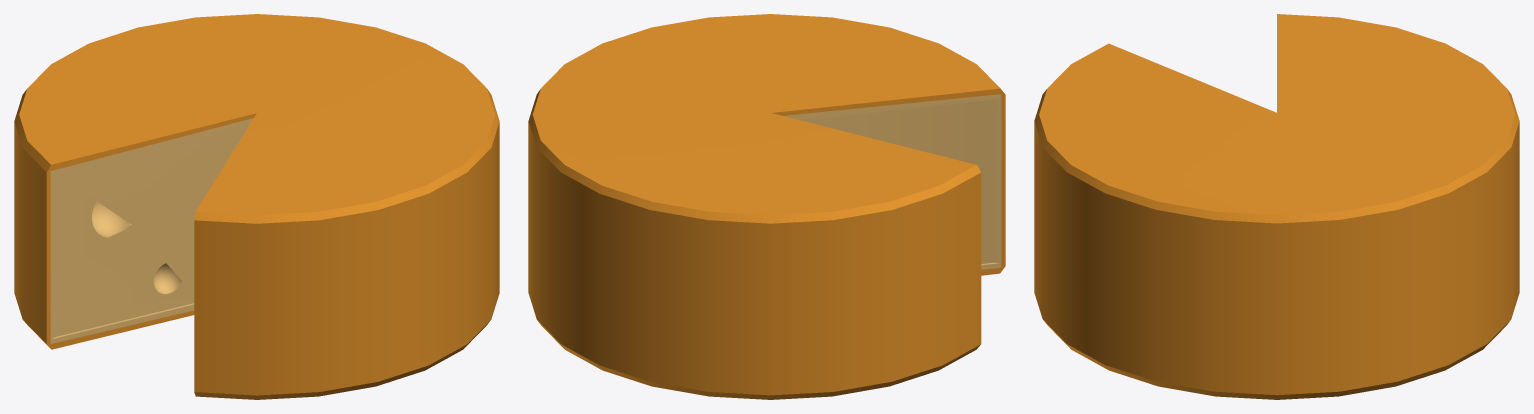
Rendered from QUEIJO.fbx.
The picture shows the model from 3 angles, left to right: view 1: azimuth 30°, elevation 25°; view 2: azimuth 150°, elevation 25°; view 3: azimuth 270°, elevation 25°; orthographic projection.
Visible parts, largest first — view 1: Cylinder; view 2: Cylinder; view 3: Cylinder.
Boxes of the visible parts, x1,y1,x2,y2 form: Cylinder: (14,14,499,399); Cylinder: (528,14,1005,399); Cylinder: (1034,14,1519,399).
Bounding box in the file's own units: 200 × 84.83 × 200.
